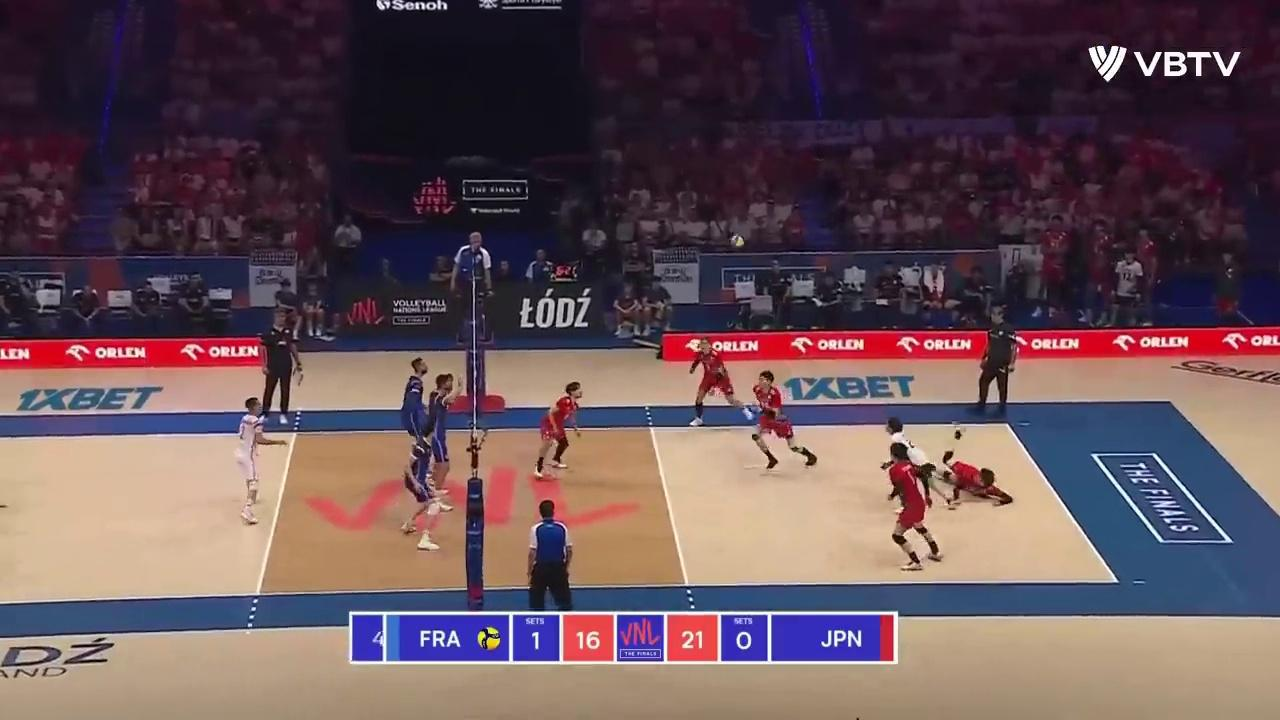ball: (729, 233, 746, 248)
